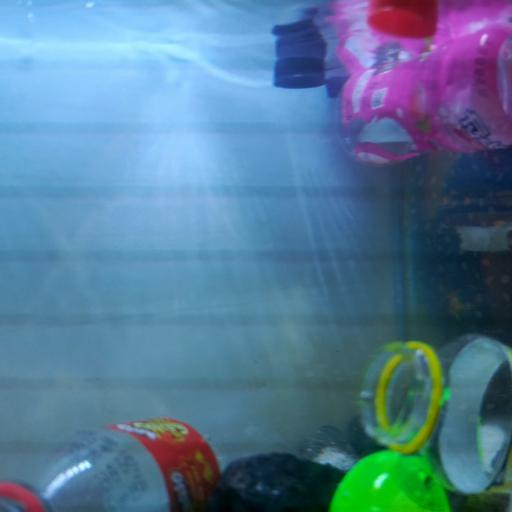bottle_cap: (364, 0, 438, 39), (273, 56, 325, 88), (327, 76, 350, 95)
plastic_bottle: (0, 419, 310, 512), (359, 332, 512, 495), (341, 25, 512, 160), (331, 448, 512, 512)
